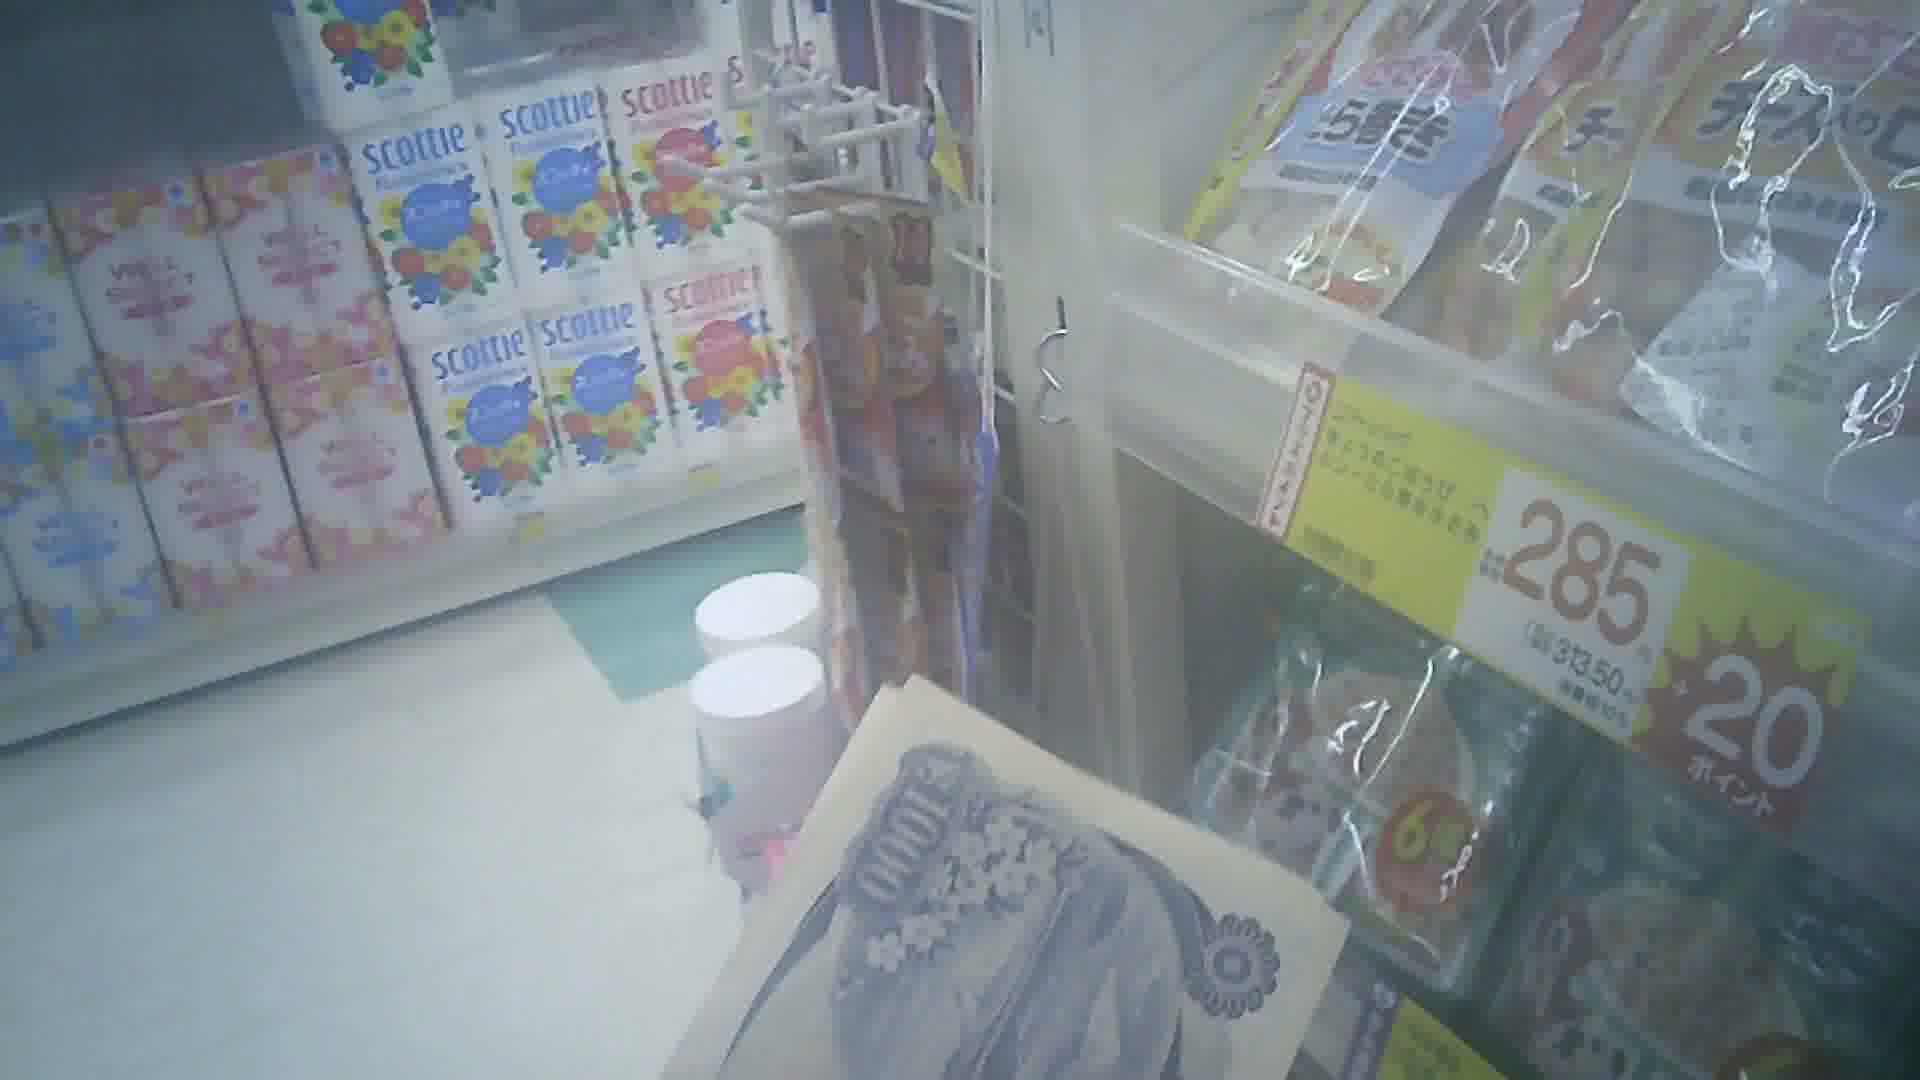1,000 Yen: (687, 679, 1338, 1072)
